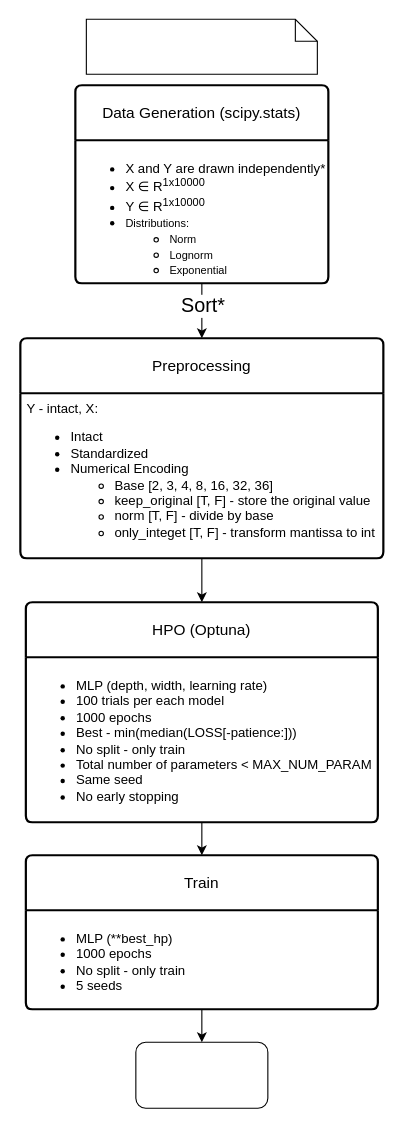
Some shapes in this 403 by 1128 pixel diagram are drawn without their labels. Each missing label, with the centre of its shape:
"* can be done Y ~ DISTR(X, scale )" goes at (201,46).
"Plots" goes at (201,1074).
